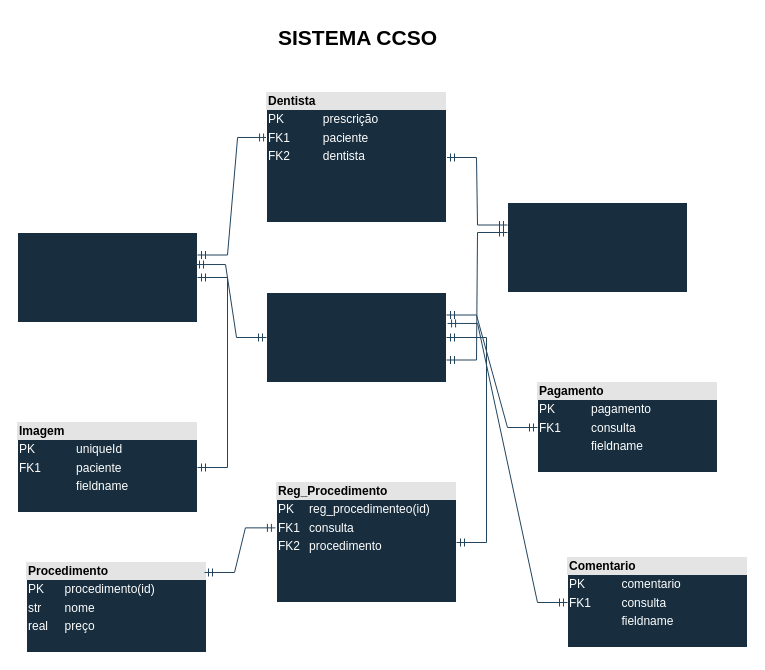
Image size: 765x670. Some labels were removed from this diagram. Here are the shapes that lost their labels. From the top down, the box of each, then its label:
(506, 202, 688, 292): Dentista PK dentista FK1 foreignKey fieldname
(16, 232, 198, 322): Paciente PK paciente str nome fieldname
(266, 292, 446, 382): Consulta PK consu lta FK1 paciente FK2 dentista
